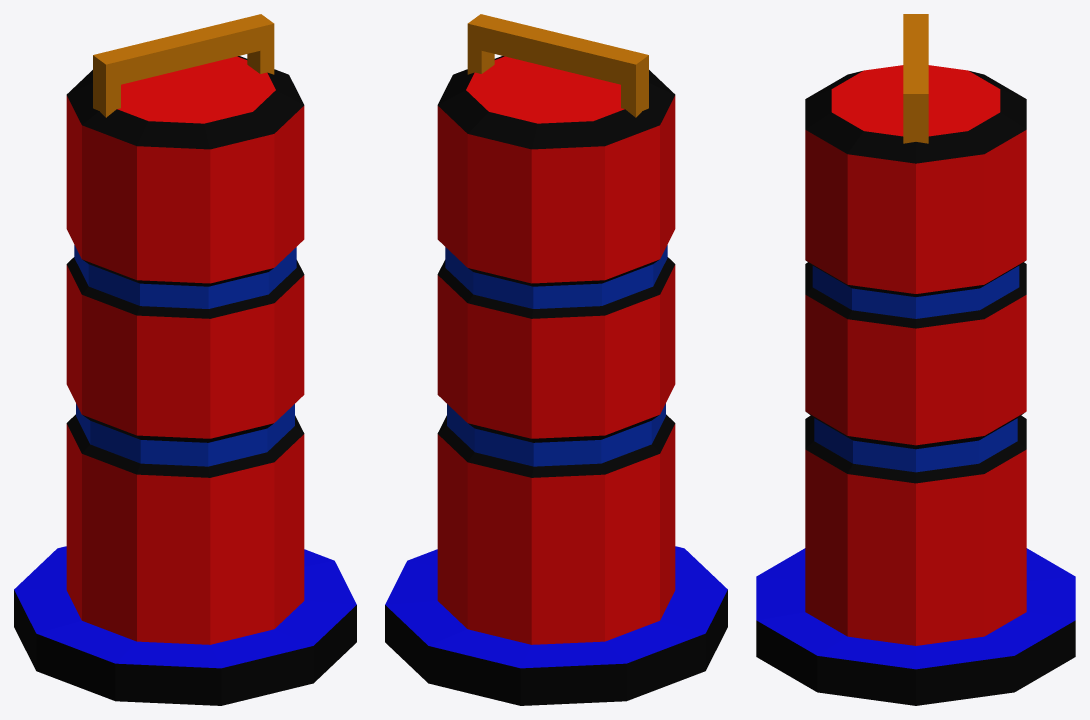
Rendered from duba2.fbx.
3 views of the same model, side by side, from view 1: azimuth 30°, elevation 25°; view 2: azimuth 150°, elevation 25°; view 3: azimuth 270°, elevation 25° (orthographic). The views are drawn at different scales.
Parts seen in each view (by area): view 1: pCube4; view 2: pCube4; view 3: pCube4.
Boxes of the visible parts, x1,y1,x2,y2 form: pCube4: [14, 14, 356, 705]; pCube4: [385, 14, 727, 705]; pCube4: [756, 14, 1075, 705].
Size of the model in its own units: 2.88 by 5.51 by 2.74.
